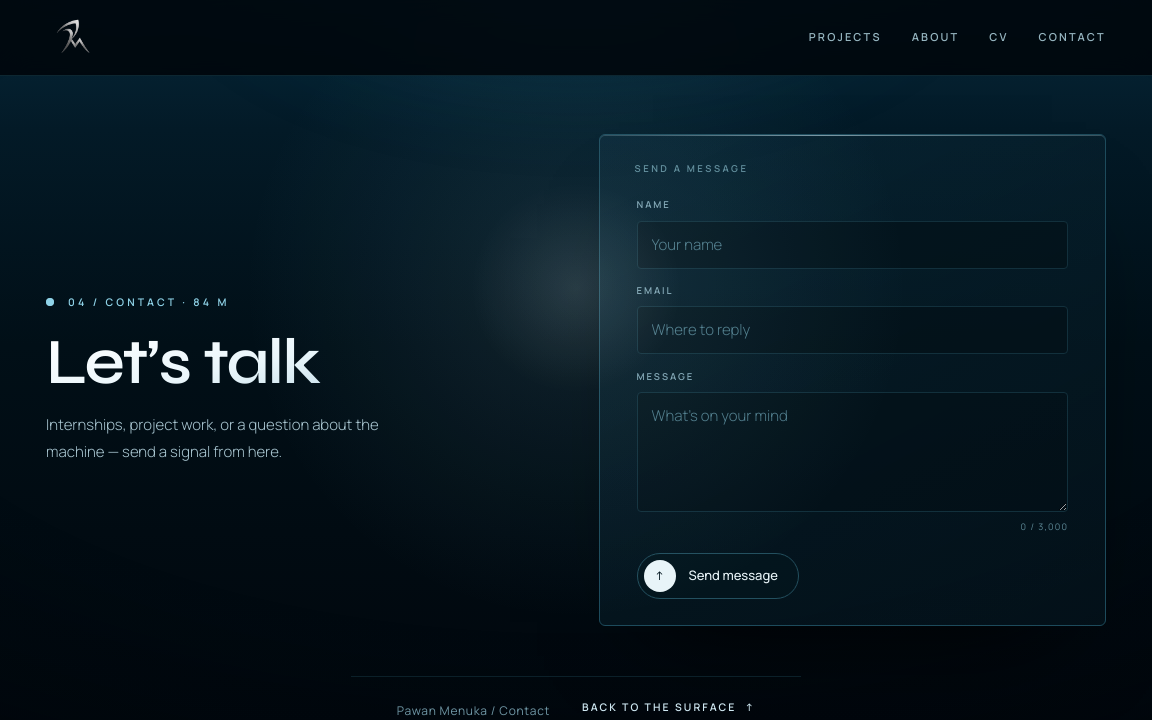
Test: Contact (all submissions mocked; no network writes) › preserves form input after a 400 response
The width and height of the screenshot is (1152, 720).
In the field labelled "Name": (852, 245) [637,221,1068,269], type "Test Person"
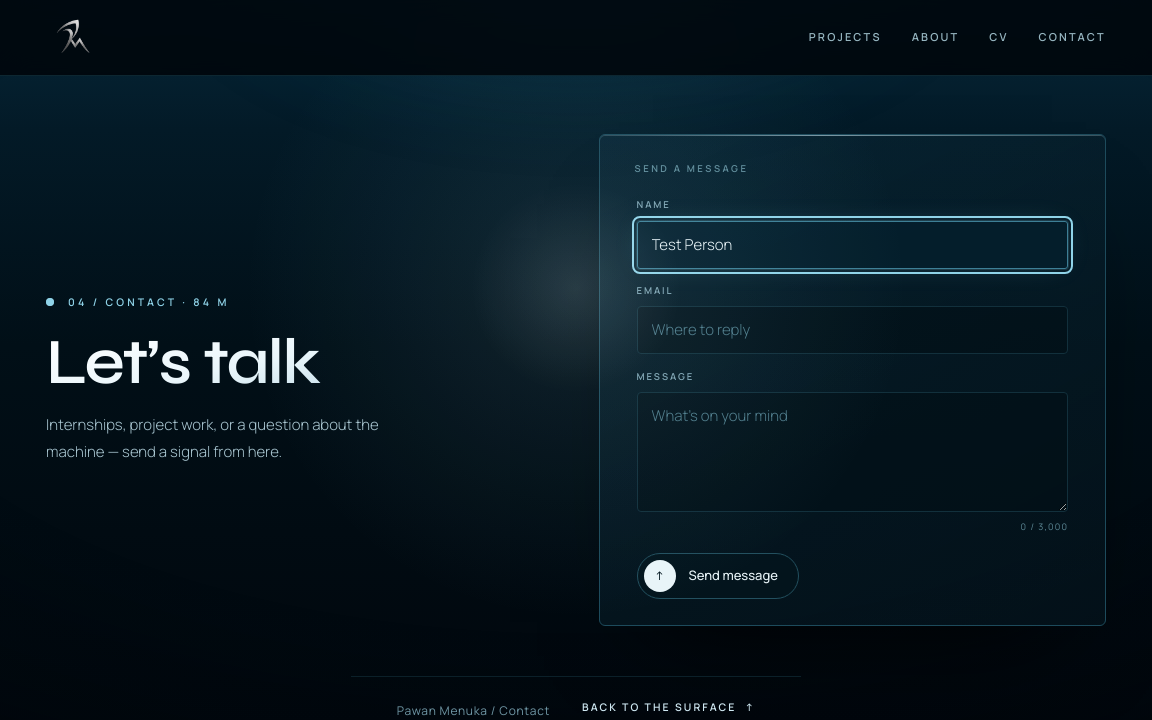
In the field labelled "Email": (852, 330) [637,306,1068,354], type "test@example.com"
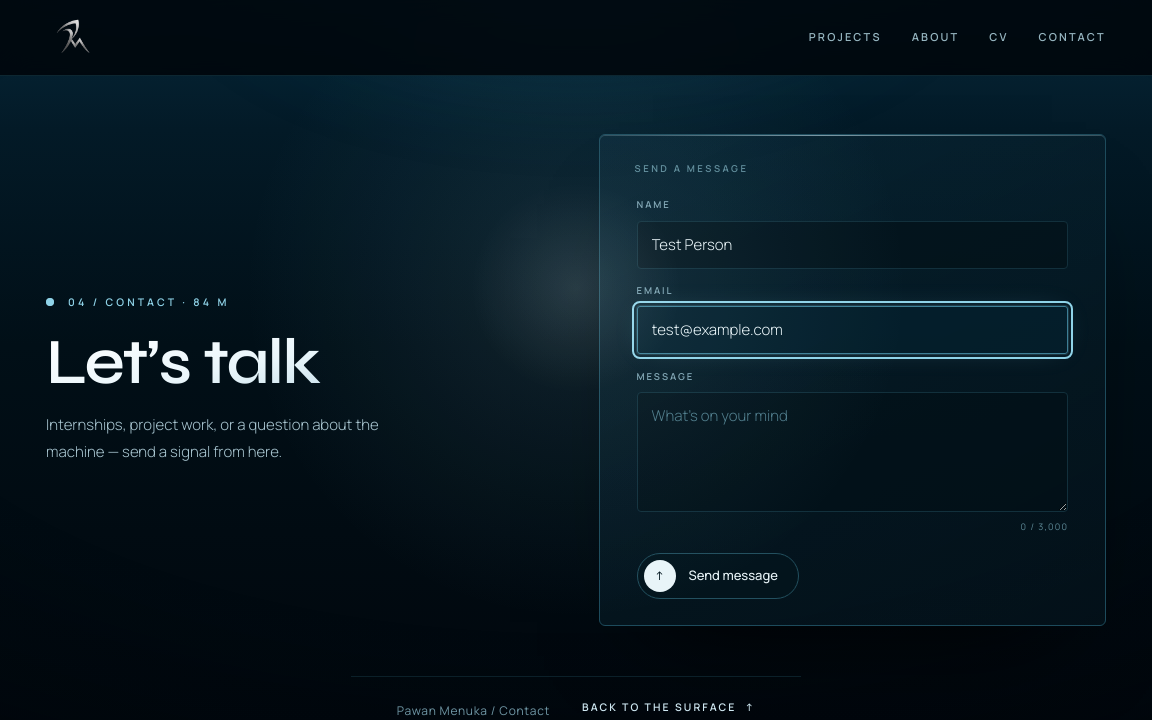
In the text box labelled "Message": (852, 452) [637,392,1068,512], type "This is a local mocked test message."
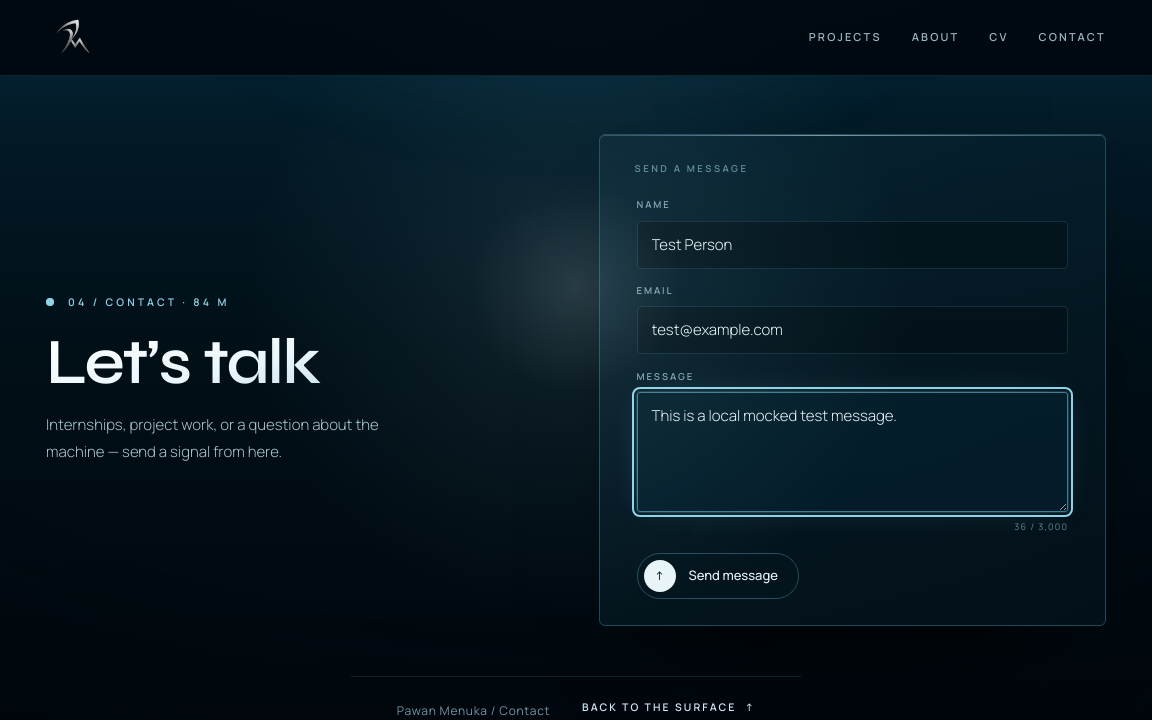
Click the button "↑ Send message": (718, 576) [637,552,799,598]
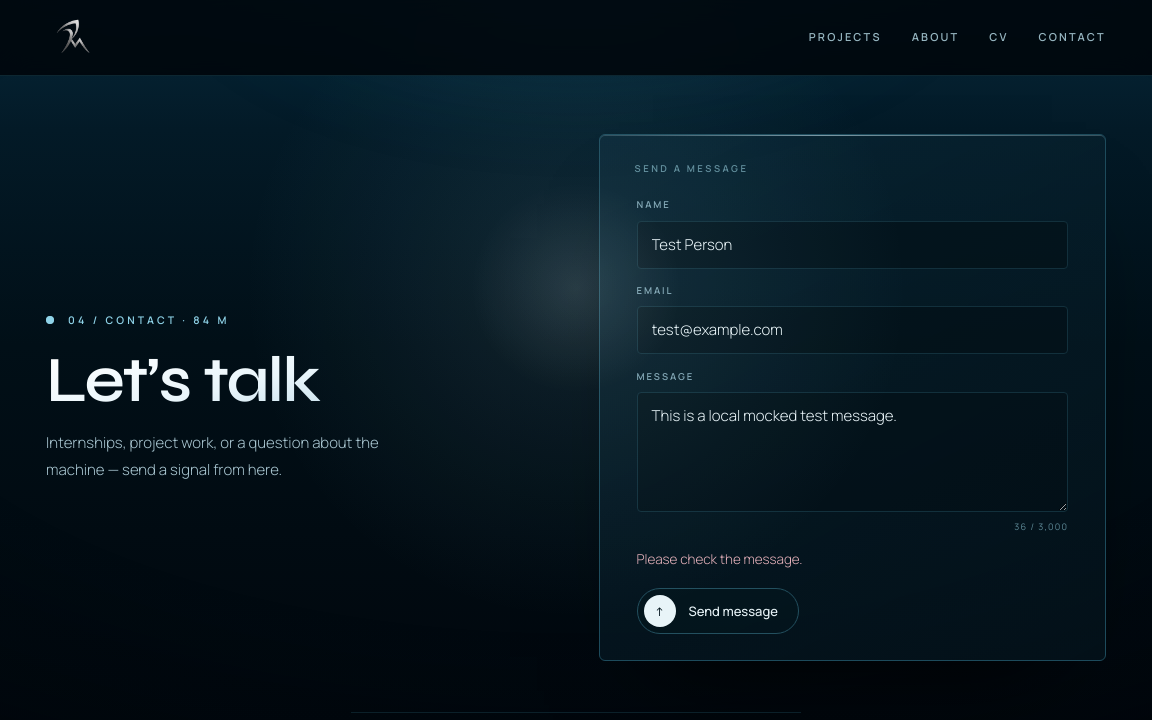
Expected: the message shows "Please check", [637,550,803,568]
